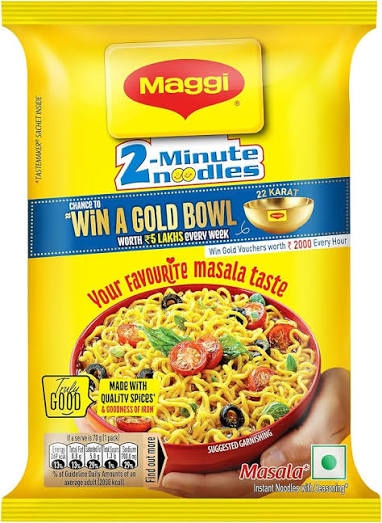maggi: (14, 0, 374, 495)
